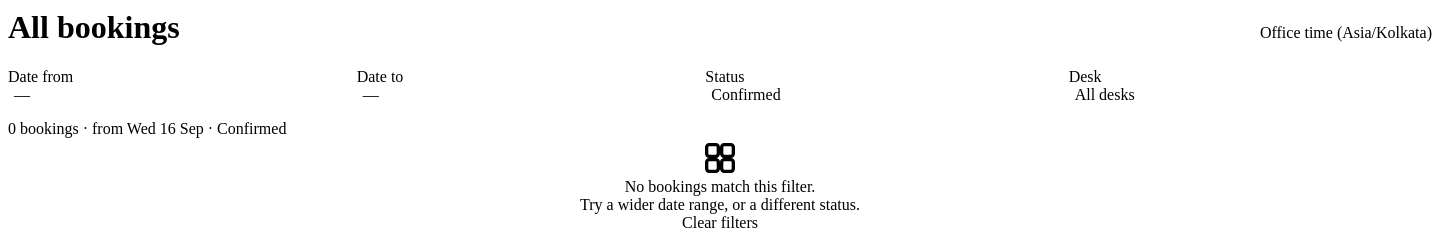
Scenario: AllBookings — ST-04 vs ST-03 (US-014/AC-06) › Clear filters returns to the unfiltered empty state (US-014/AC-05)
Click the button "Clear filters" at x=720, y=223, box x1=682 y1=214 x2=758 y2=232
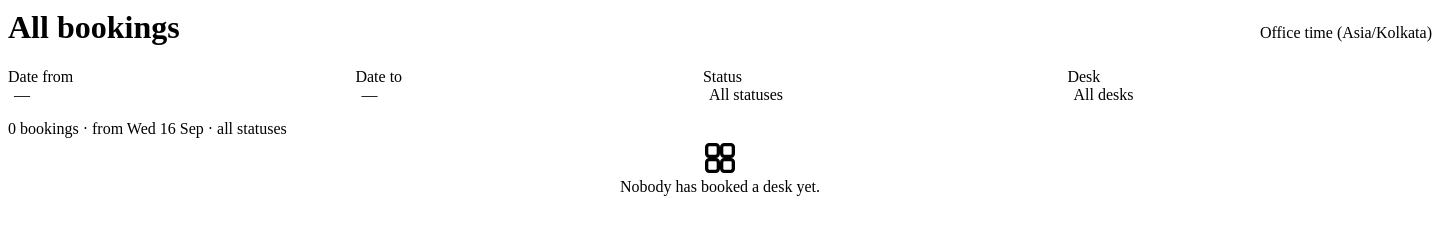
Result: the text "Nobody has booked a desk yet." is shown at x1=620 y1=178 x2=820 y2=196
